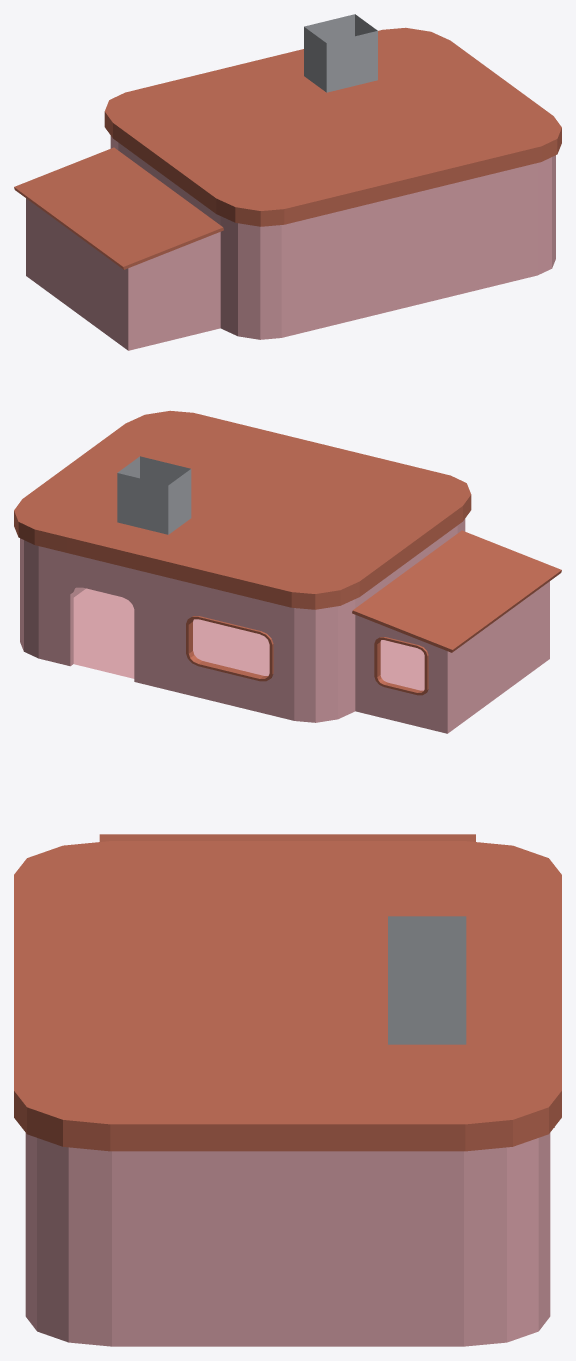
File: Bld_R_high_L3_C.fbx
3 views of the same model, one above another, from view 1: azimuth 30°, elevation 25°; view 2: azimuth 150°, elevation 25°; view 3: azimuth 270°, elevation 25° (orthographic). The views are drawn at different scales.
Parts seen in each view (by area): view 1: Bld_R_high_L3_C_LOD0; view 2: Bld_R_high_L3_C_LOD0; view 3: Bld_R_high_L3_C_LOD0.
Part boxes in pixels (box(x1,y1,x2,y2)): Bld_R_high_L3_C_LOD0: box(14, 14, 561, 350); Bld_R_high_L3_C_LOD0: box(14, 410, 561, 733); Bld_R_high_L3_C_LOD0: box(14, 834, 561, 1346).
Size of what is drawn, in the model's own units: 2200 by 1198 by 1400.
Materials: 1 (1 with a texture image).
